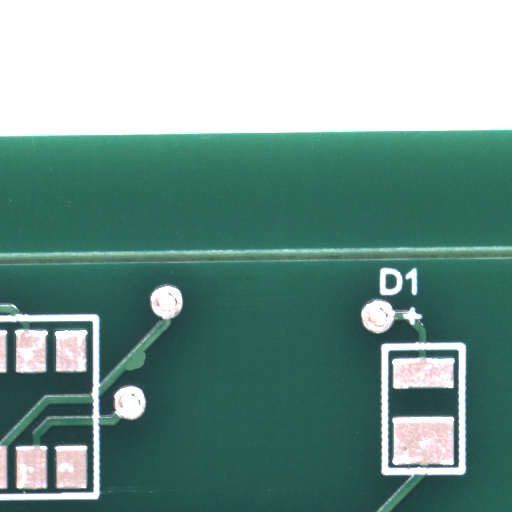Spur: (135, 362, 155, 380)
